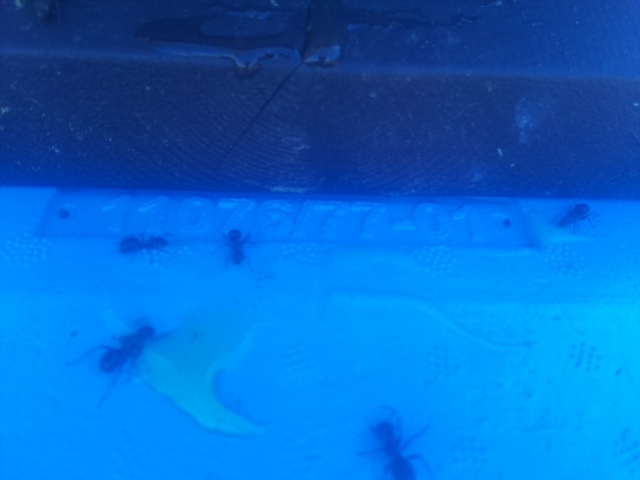ant: (92, 315, 158, 382), (548, 201, 603, 234)
